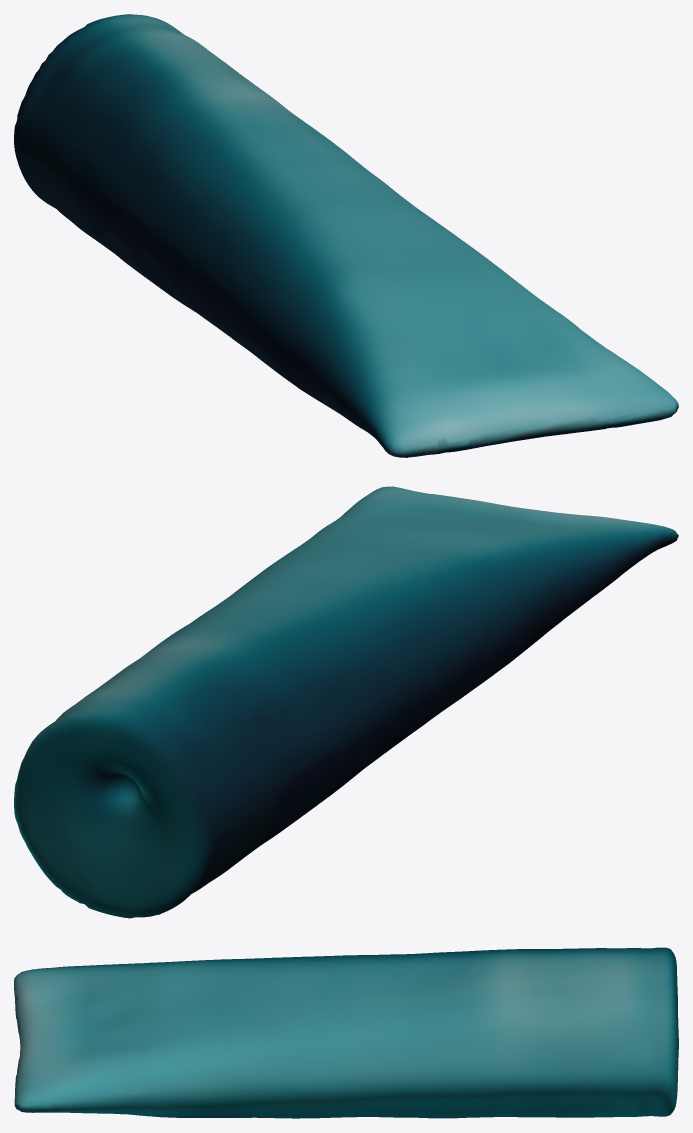
File: oil.glb
3 views of the same model, one above another, from view 1: azimuth 30°, elevation 25°; view 2: azimuth 150°, elevation 25°; view 3: azimuth 270°, elevation 25° (orthographic). The views are drawn at different scales.
Bounding box in the file's own units: 0.3954 × 0.2511 × 0.9981.
